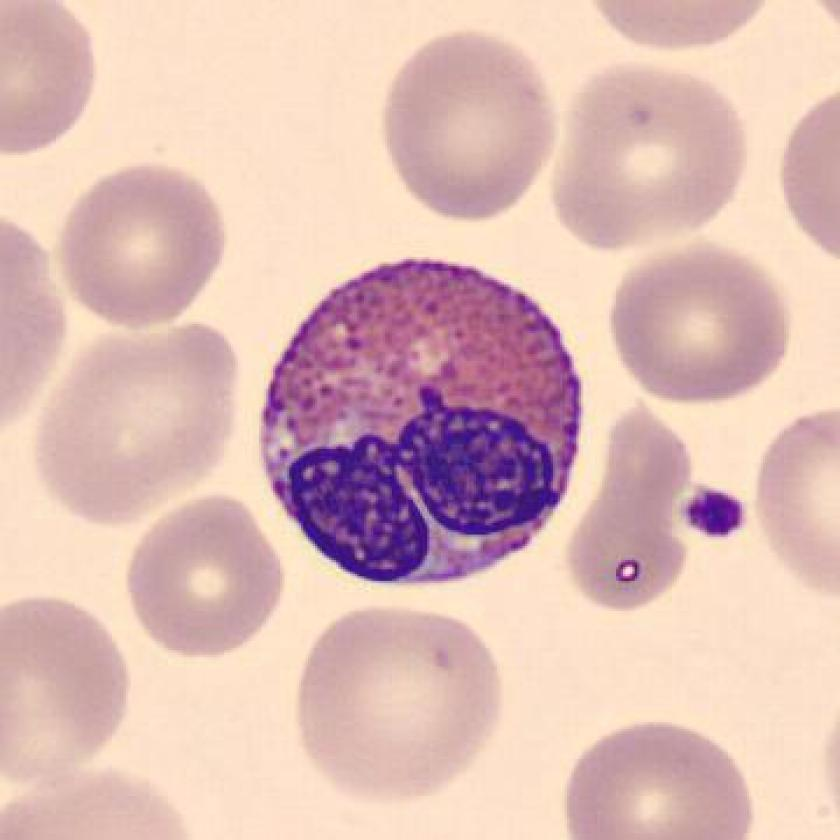eosinophil: (246, 247, 594, 608)
